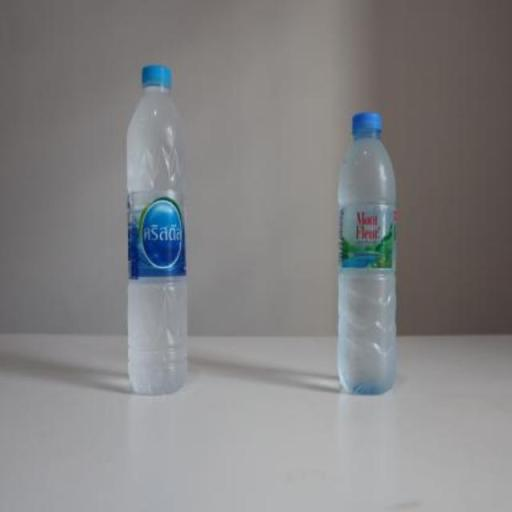Coca: (118, 56, 194, 403), (331, 104, 403, 400)
